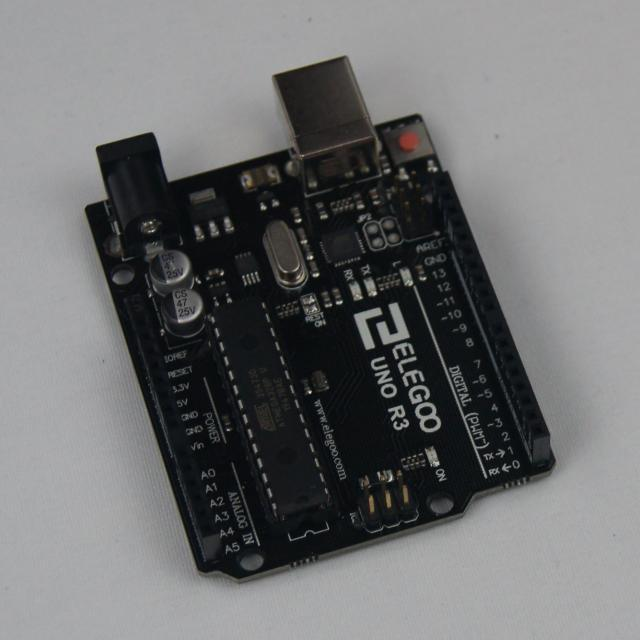Arduino Uno -Black-: (87, 58, 555, 579)
